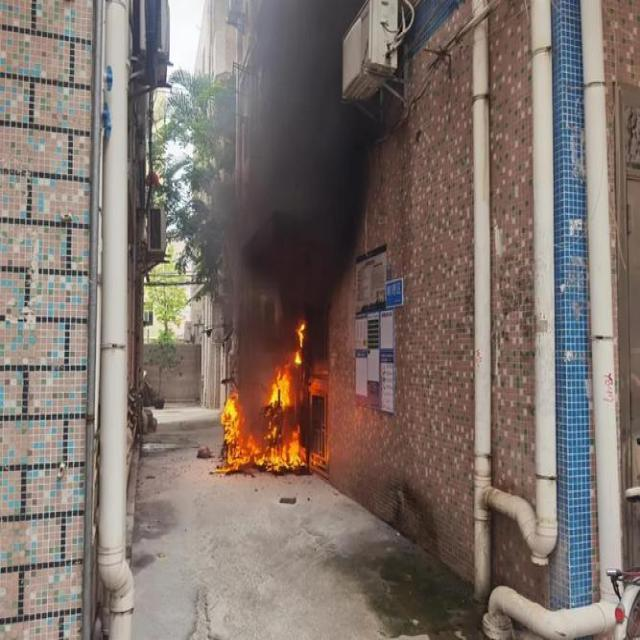Fire: (221, 395, 311, 472), (269, 361, 292, 406), (290, 318, 308, 367)
Smoke: (218, 2, 338, 348)
